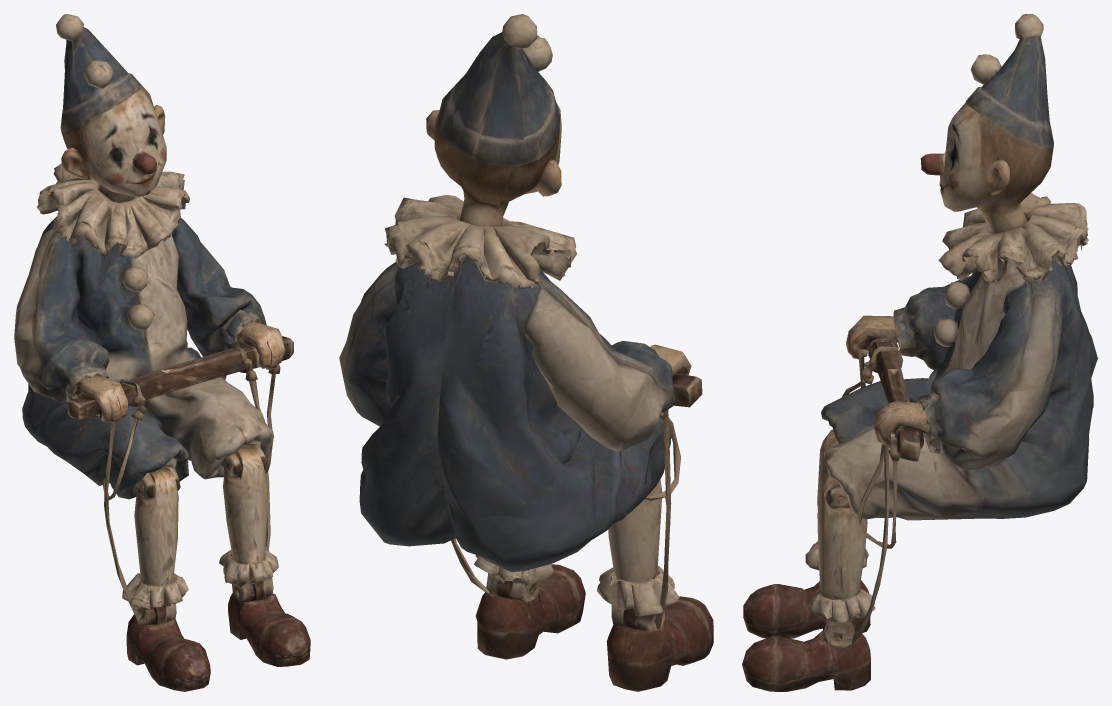
The model's file is up_marionette_clown.glb.
The picture shows the model from 3 angles, left to right: view 1: azimuth 30°, elevation 25°; view 2: azimuth 150°, elevation 25°; view 3: azimuth 270°, elevation 25°; orthographic projection. The views are drawn at different scales.
Visible parts, largest first — view 1: up_marionette_clown; view 2: up_marionette_clown; view 3: up_marionette_clown.
Part boxes in pixels (x1,y1,x2,y2): up_marionette_clown: (14,14,310,691); up_marionette_clown: (339,14,713,691); up_marionette_clown: (742,14,1097,691).
Size of the model in its own units: 0.263 by 0.6 by 0.314.
1 material, 1 textured.
